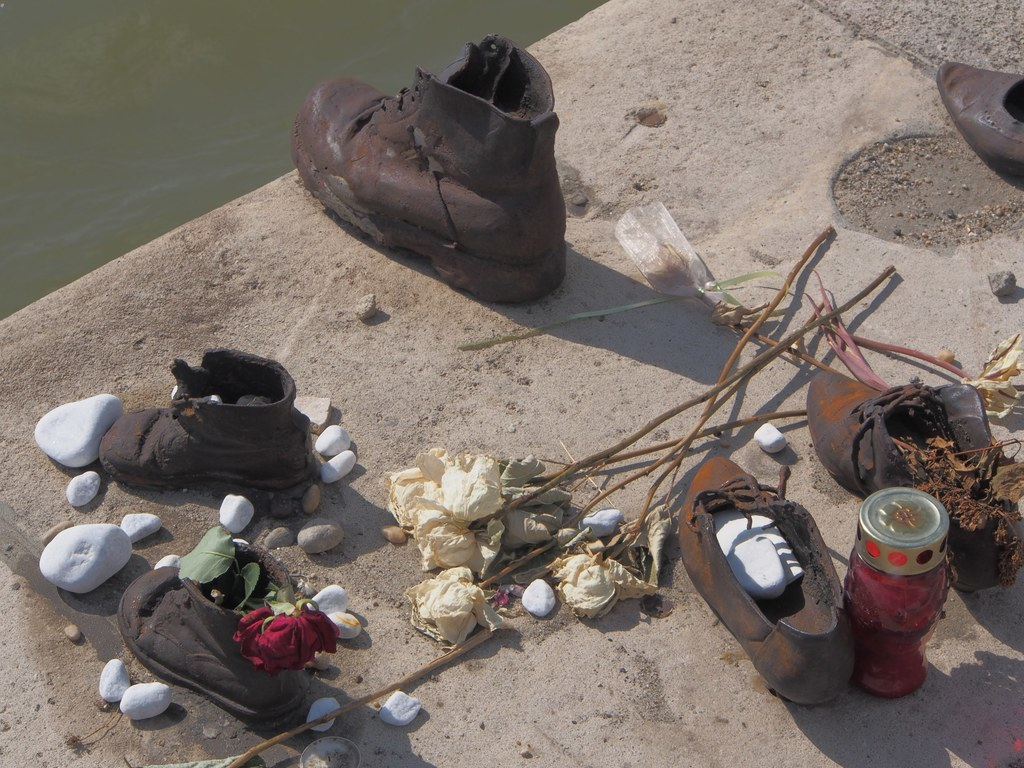Footwear: (302, 12, 575, 307), (806, 369, 1023, 594), (673, 458, 868, 700), (92, 346, 337, 506), (115, 546, 324, 727)
